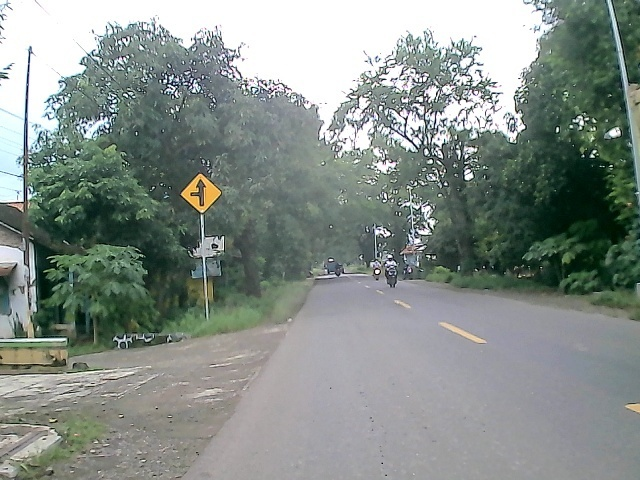Simpang kiri dengan prioritas: (179, 171, 222, 216)
